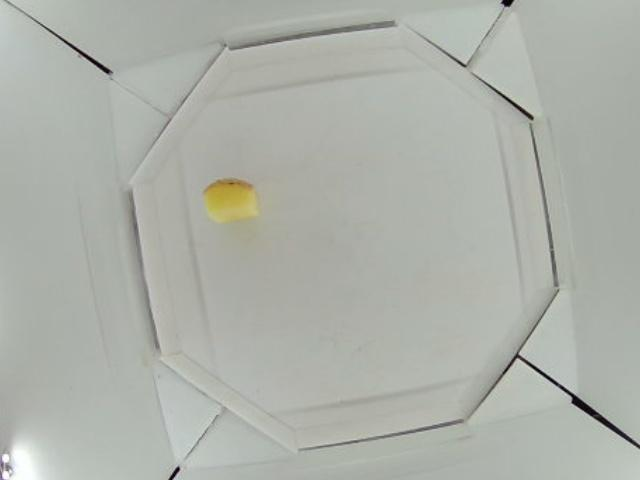Potato: (204, 177, 258, 223)
